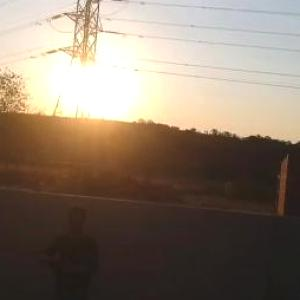follow: (34, 196, 99, 299)
